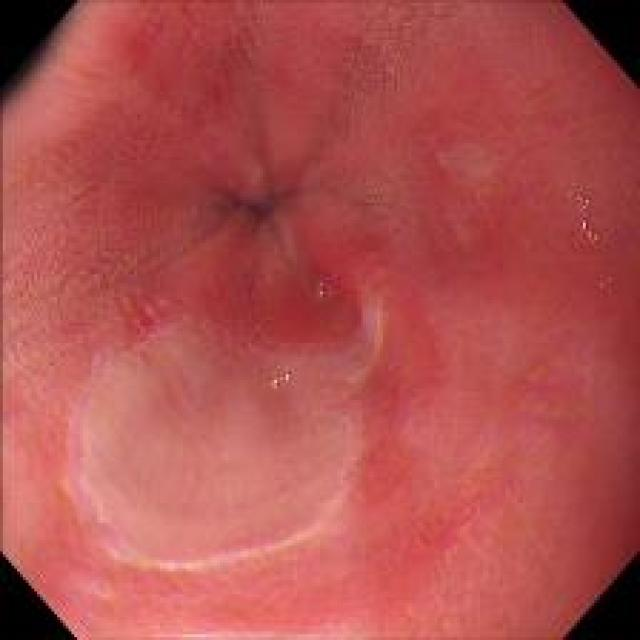blur: (21, 21, 435, 599)
bubbles: (564, 182, 604, 256), (309, 271, 335, 308), (265, 361, 292, 391)
